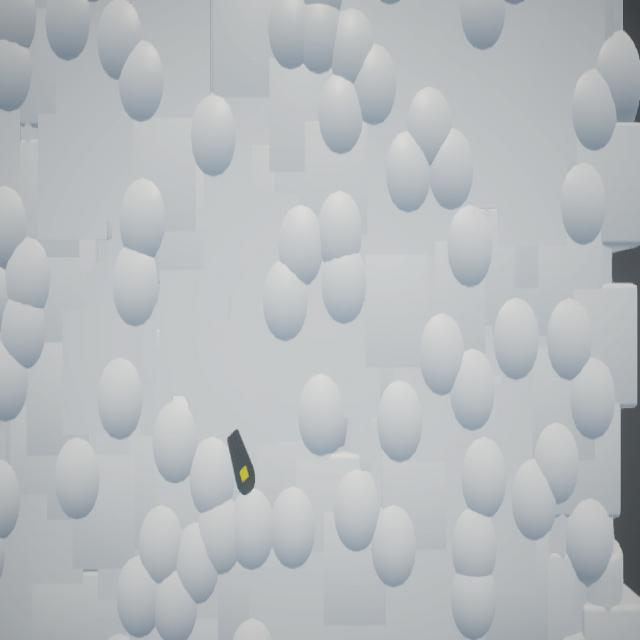handle_folk: (228, 430, 256, 496)
